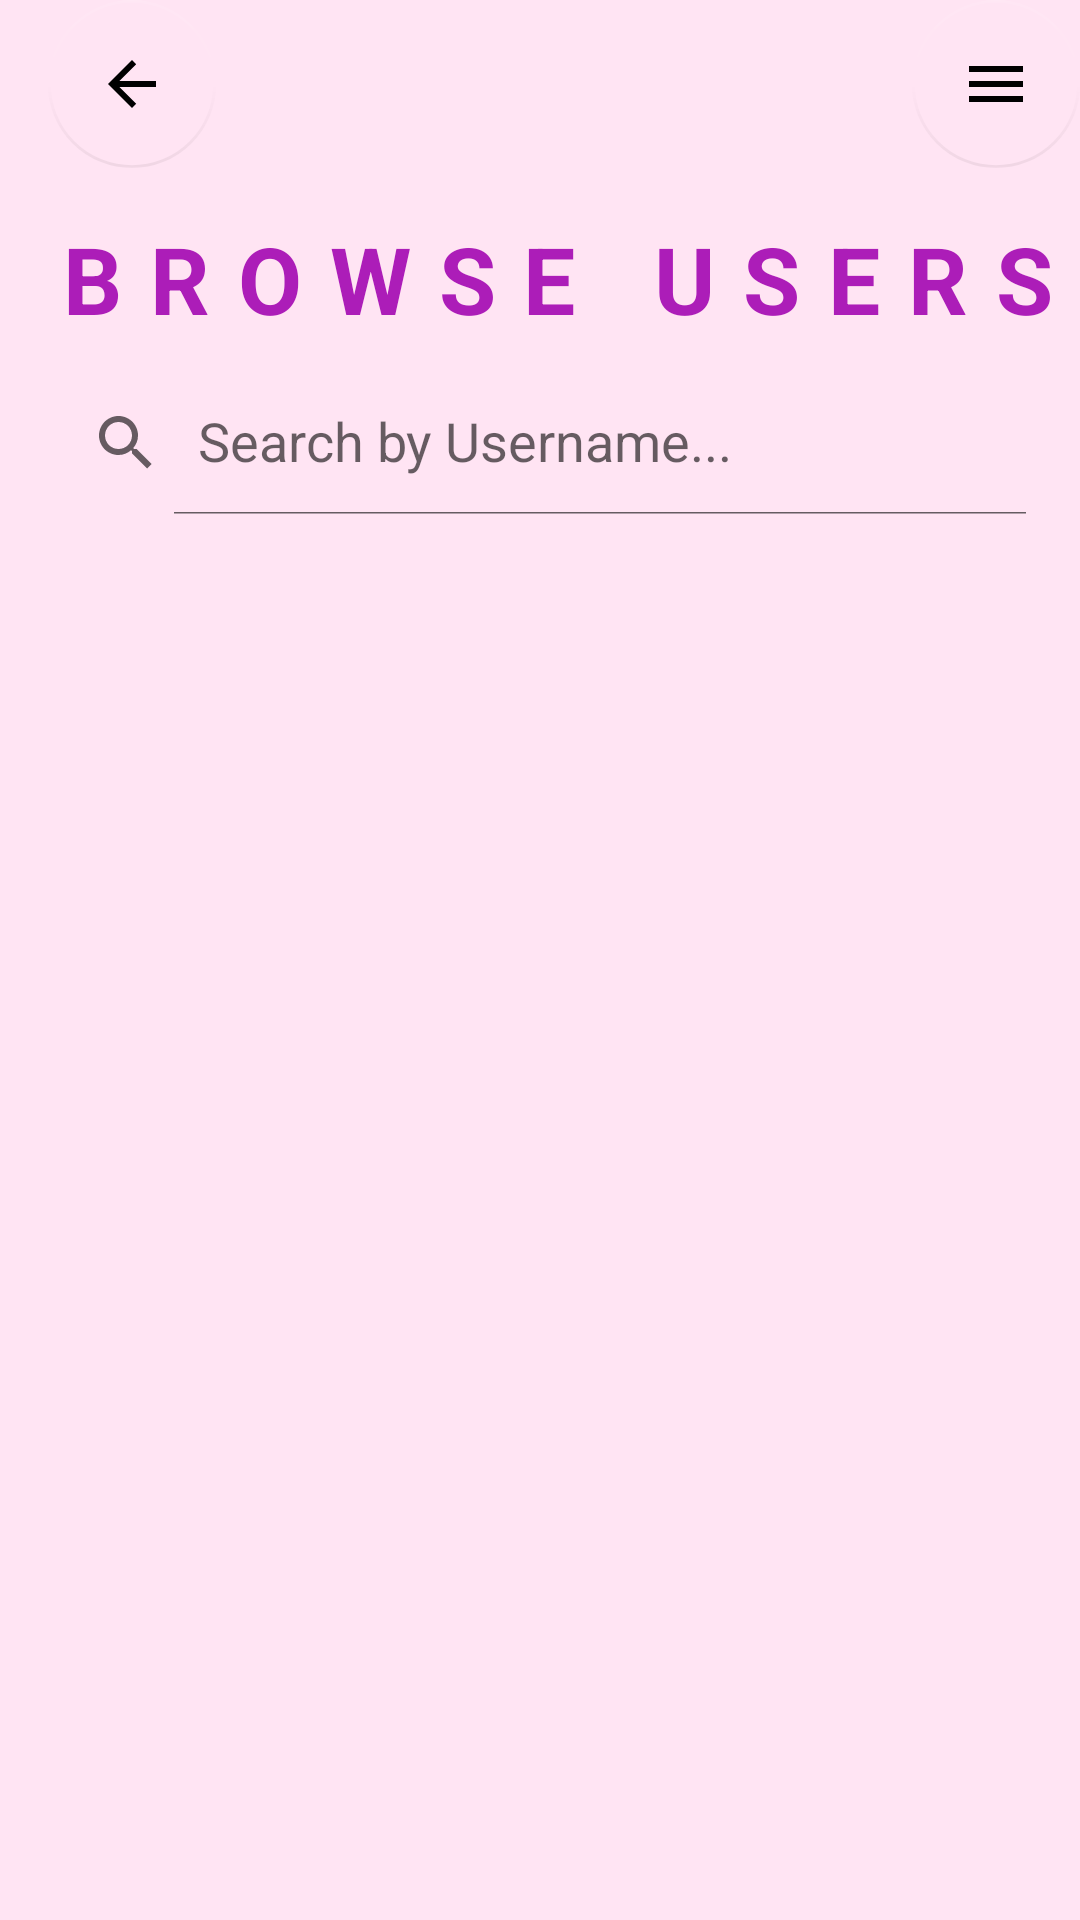

Screen size 1080 x 1920. Icon name, then its center in pixels as [x,y]:
hamburger: [996,84]
